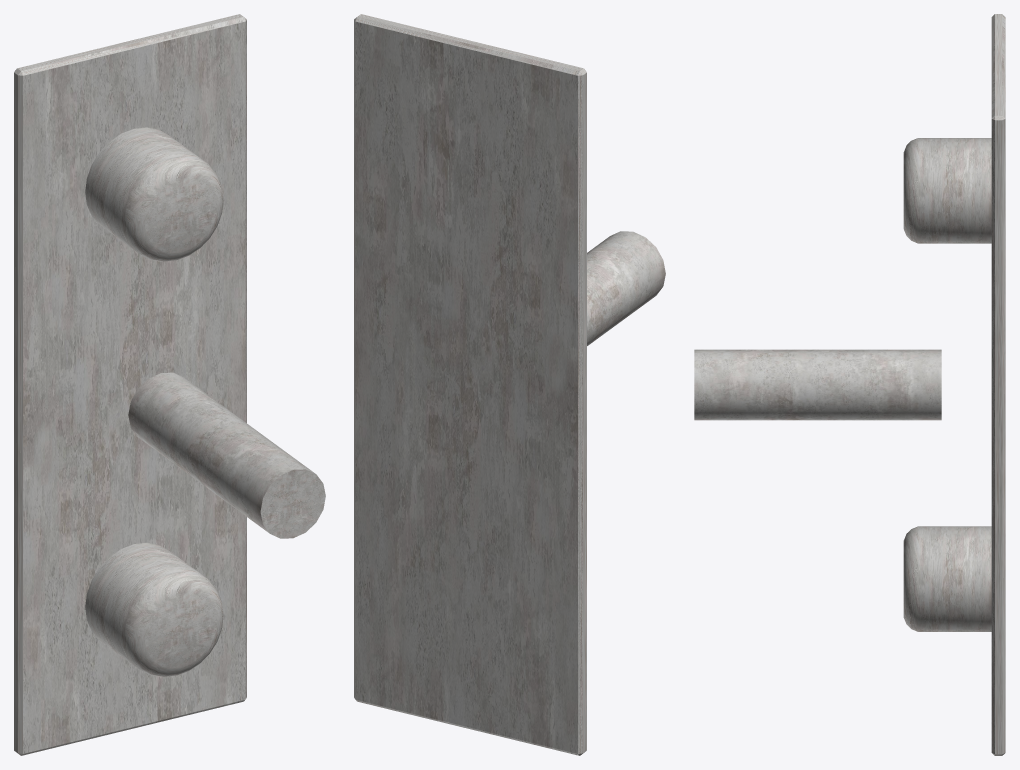
3 renders of one model, left to right at view 1: azimuth 30°, elevation 25°; view 2: azimuth 150°, elevation 25°; view 3: azimuth 270°, elevation 25°, orthographic. The views are drawn at different scales.
Size of the model in its own units: 0.35 by 1 by 0.4406.
Materials: 1 (1 with a texture image).
